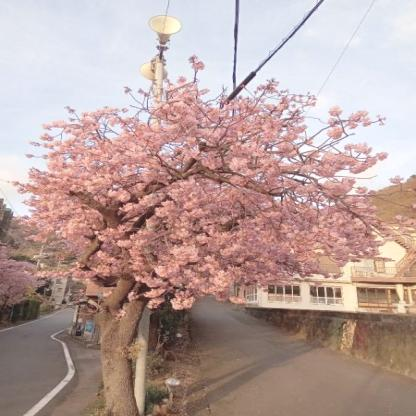KawazuSakura: (10, 50, 400, 315), (139, 60, 167, 82)
